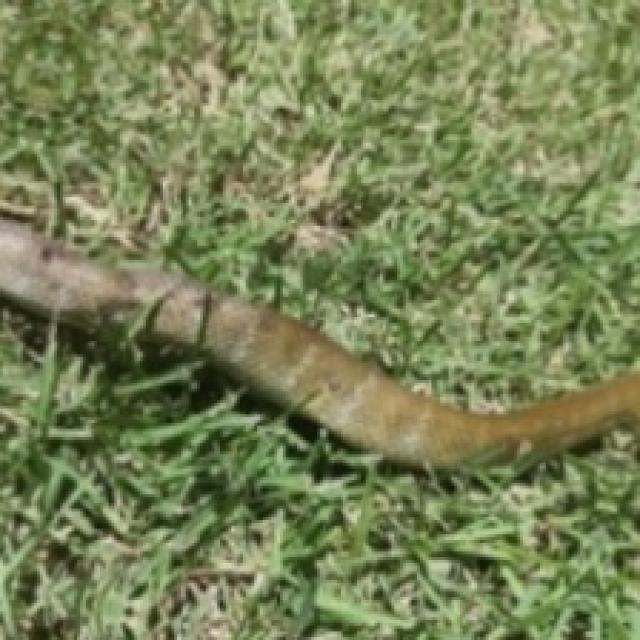reddish rat snake: (0, 217, 637, 469)
